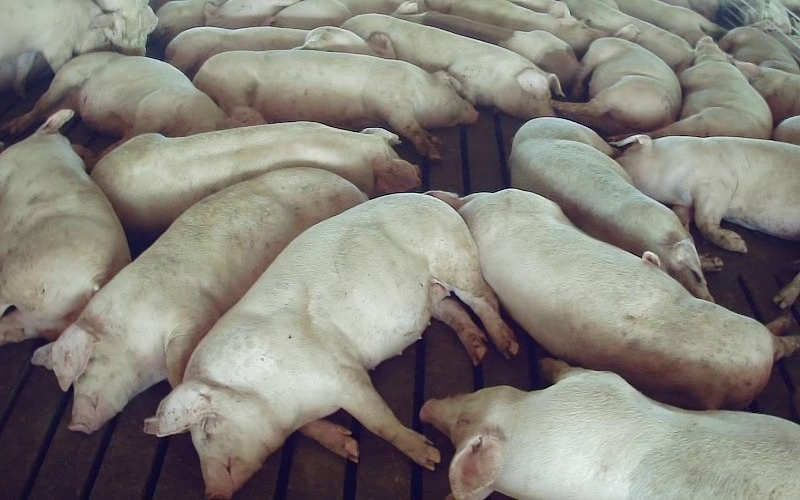pig: (145, 195, 517, 497), (34, 168, 365, 432), (430, 189, 799, 408), (421, 360, 799, 499), (509, 117, 712, 299), (91, 122, 420, 234), (193, 49, 477, 160), (0, 109, 129, 344), (343, 14, 561, 118), (616, 135, 799, 251), (0, 52, 224, 139), (393, 0, 580, 89), (553, 25, 681, 134), (650, 38, 772, 138), (165, 26, 394, 76), (424, 0, 606, 56), (565, 0, 694, 72)
